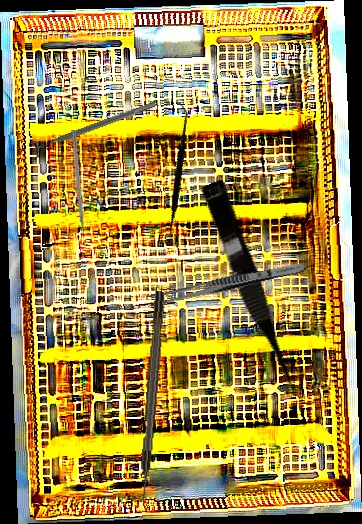Dressing Forceps: (148, 258, 308, 310)
Fixation Ring: (27, 94, 160, 162)
Hook Surgical: (136, 290, 167, 506), (70, 129, 87, 247)
Micro Scissor: (195, 178, 303, 398)
Spatula Surgical: (116, 100, 239, 249)
